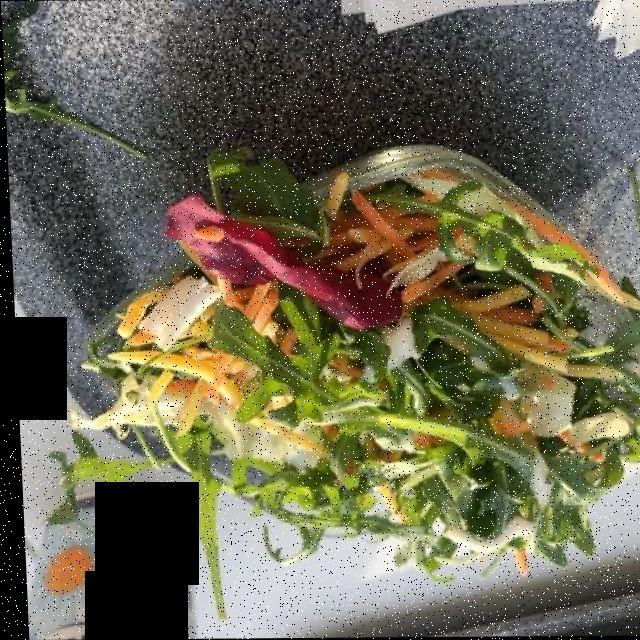mixed-salad-chopped-without-sauce: (87, 166, 640, 569)
